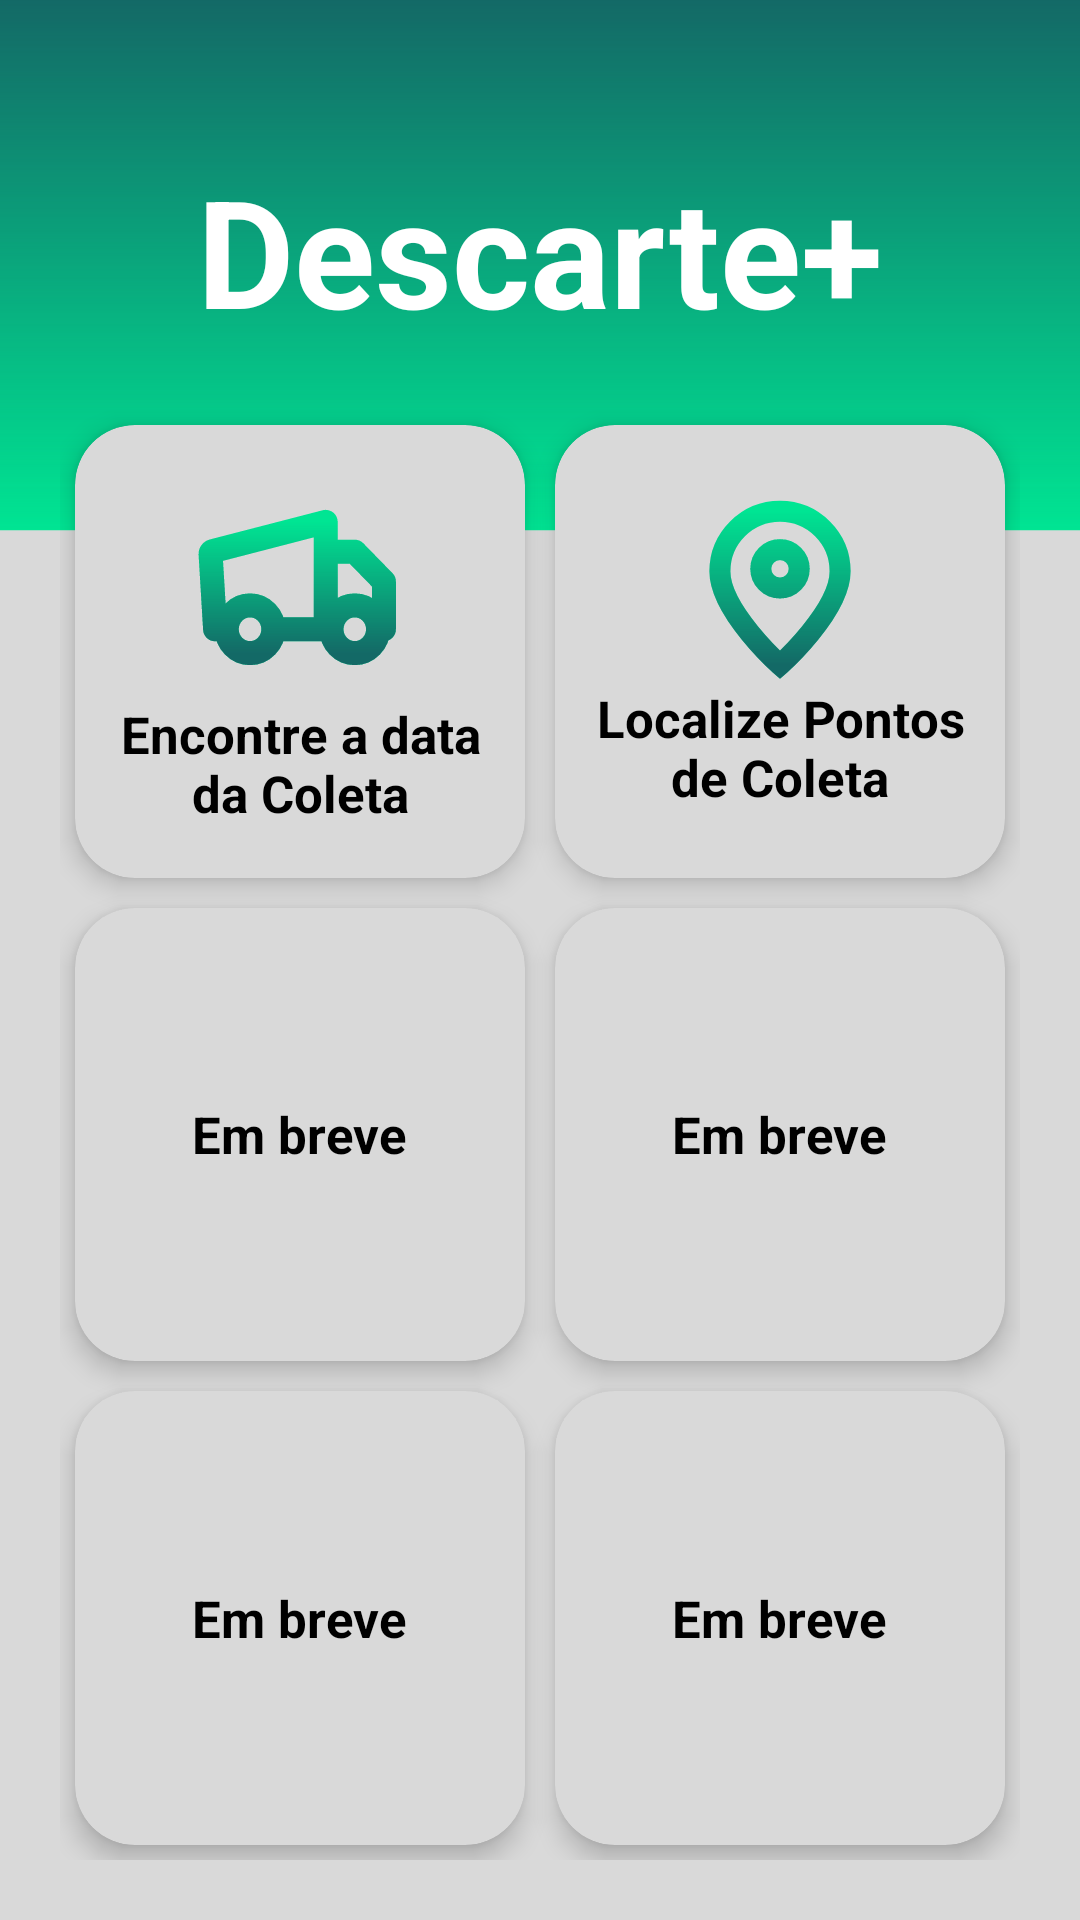

Screen size 1080w x 1920h. Icon name, then its box in pixels as (x1, y1, x2, y2):
garbage truck: (198, 509, 396, 665)
mark: (709, 500, 851, 679)
